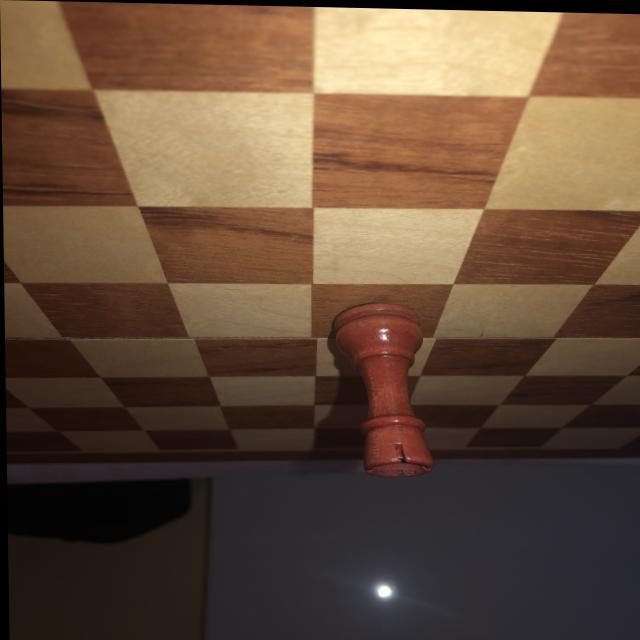black_rook: (329, 303, 436, 478)
